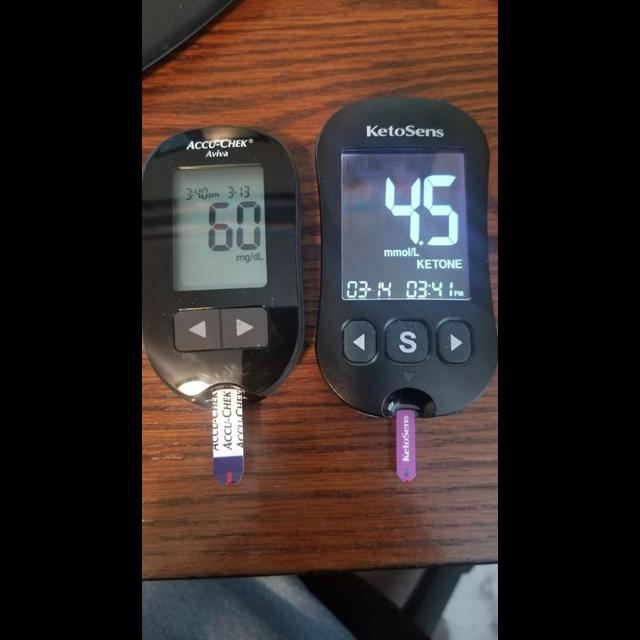Glucose-Meter: (317, 99, 497, 481), (143, 128, 304, 483)
